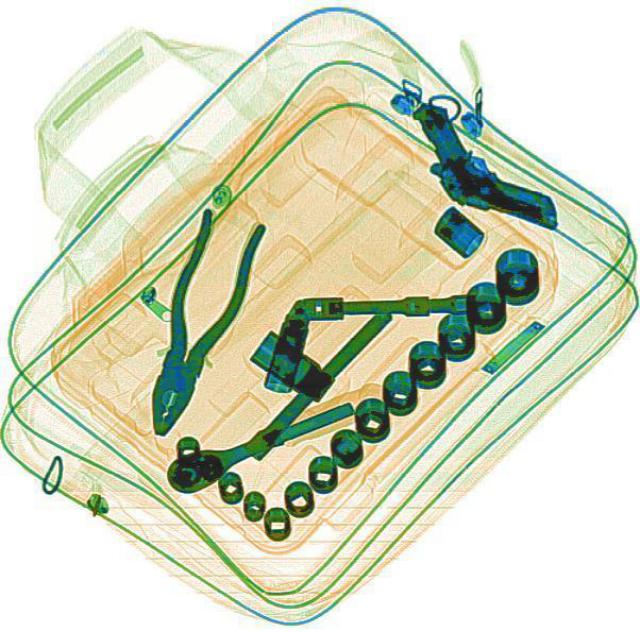Gun: (400, 76, 562, 257)
Pliers: (120, 204, 268, 444)
